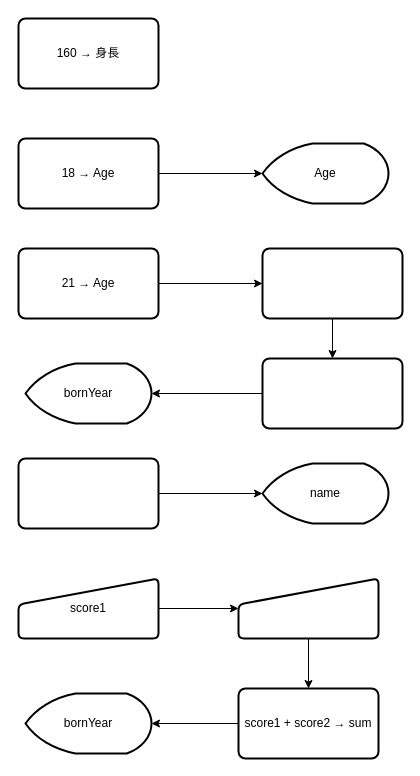
Image size: 420x776. Some labels were removed from this diagram. The centre of each missing label's shape, as x and y in pixels:
"'佐藤' → name" goes at point (88, 493).
"2021 → Year" goes at point (332, 283).
"score2" goes at point (308, 608).
"Year - Age → bornYear" goes at point (332, 393).
